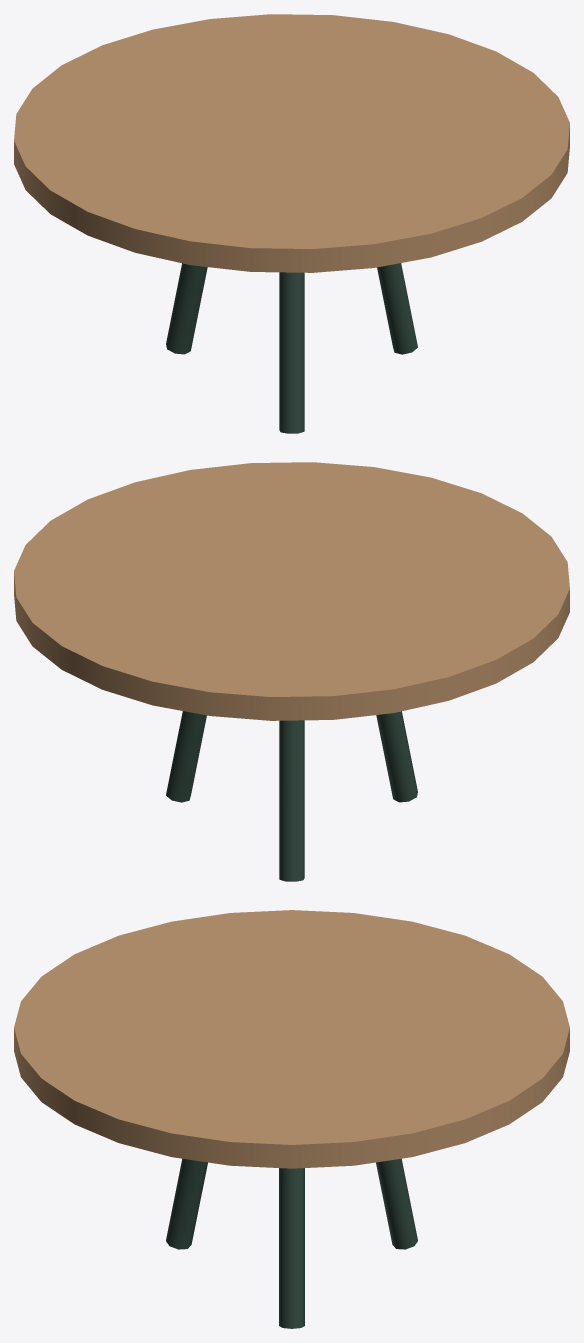
The model's file is outdoor-table.glb.
3 renders of one model, top to bottom at view 1: azimuth 30°, elevation 25°; view 2: azimuth 150°, elevation 25°; view 3: azimuth 270°, elevation 25°, orthographic.
Visible parts, largest first — view 1: outdoor-table; view 2: outdoor-table; view 3: outdoor-table.
Boxes of the visible parts, x1,y1,x2,y2 form: outdoor-table: (14, 14, 569, 433); outdoor-table: (14, 462, 569, 881); outdoor-table: (14, 910, 569, 1328).
Size of the model in its own units: 1.7 by 0.8278 by 1.7.
